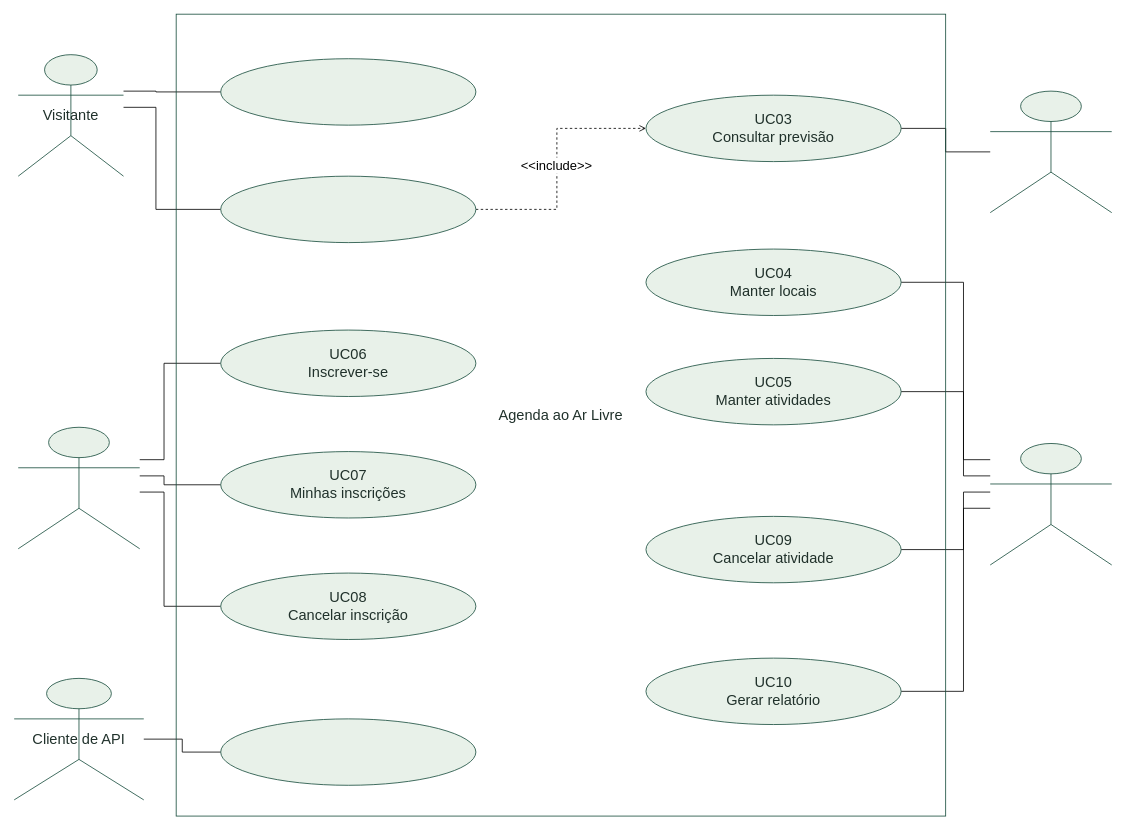
Some shapes in this 1126 by 830 pixel diagram are drawn without their labels. Here are the shapes that lost their labels. From the top down, the centre of each, then its label:
point (348, 91): UC01 Criar conta / entrar
point (1050, 151): Open-Meteo
point (348, 209): UC02 Pesquisar e consultar
point (78, 487): Participante
point (1050, 504): Organizador
point (348, 751): UC11 Consultar API pública
